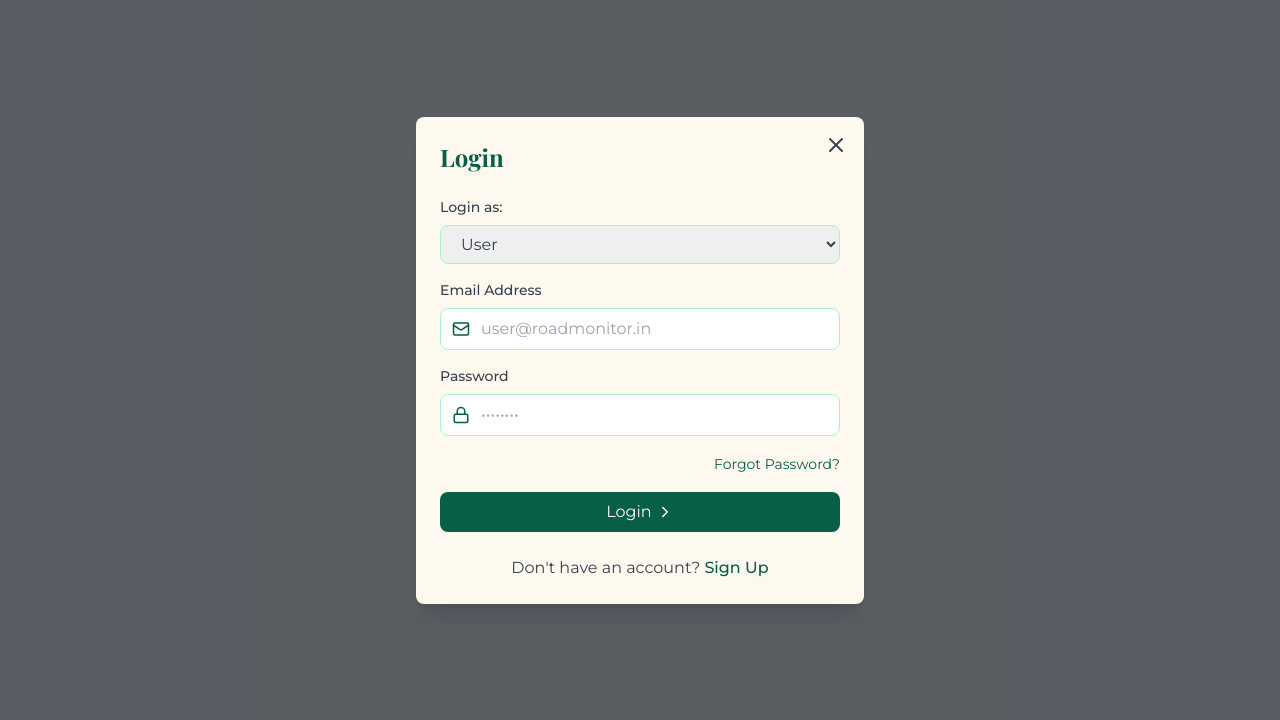
Test: LoginModal › shows error for invalid user email
Type "test@gmail.com" into the field labelled "Email Address".
click(640, 328); type("test@gmail.com")  # box 440,308 -> 840,350
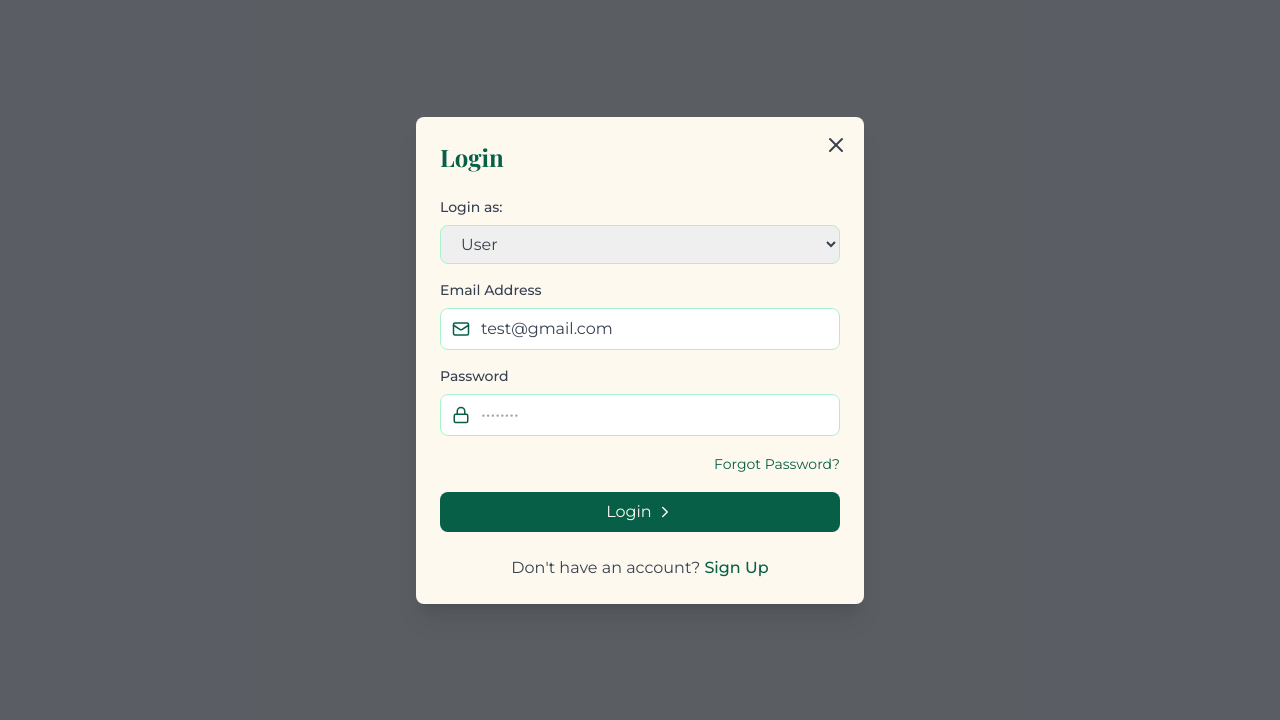
Type "password123" into the password field labelled "Password".
click(640, 414); type("password123")  # box 440,394 -> 840,436
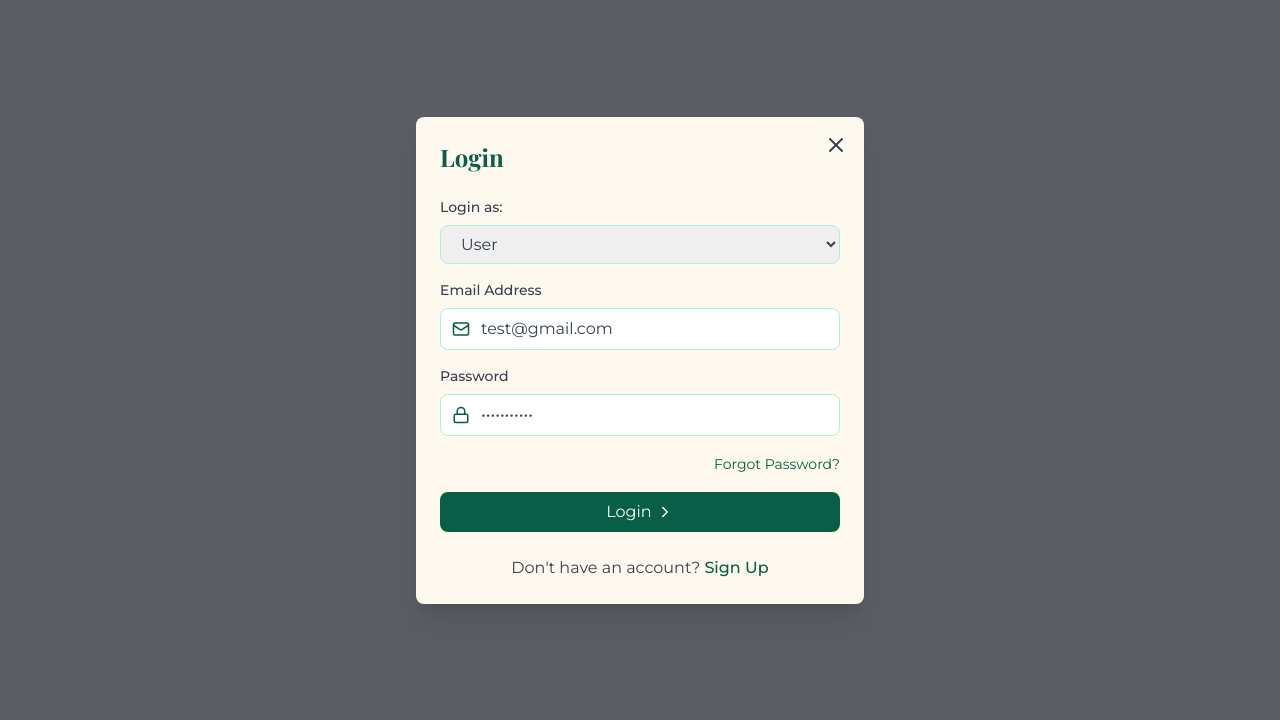
Click the button "Login".
click(640, 512)  # box 440,492 -> 840,532
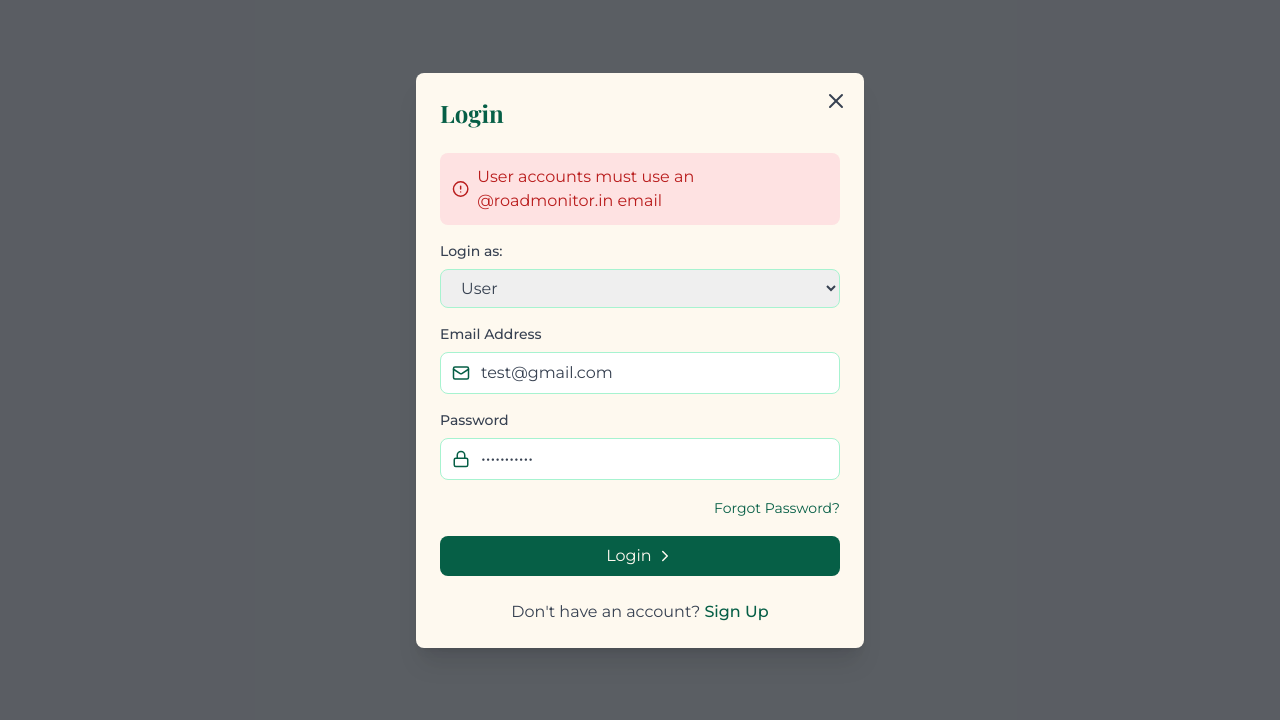
Now the text "User accounts must use an @roadmonitor.in email" is shown, box 440,152 -> 840,224
